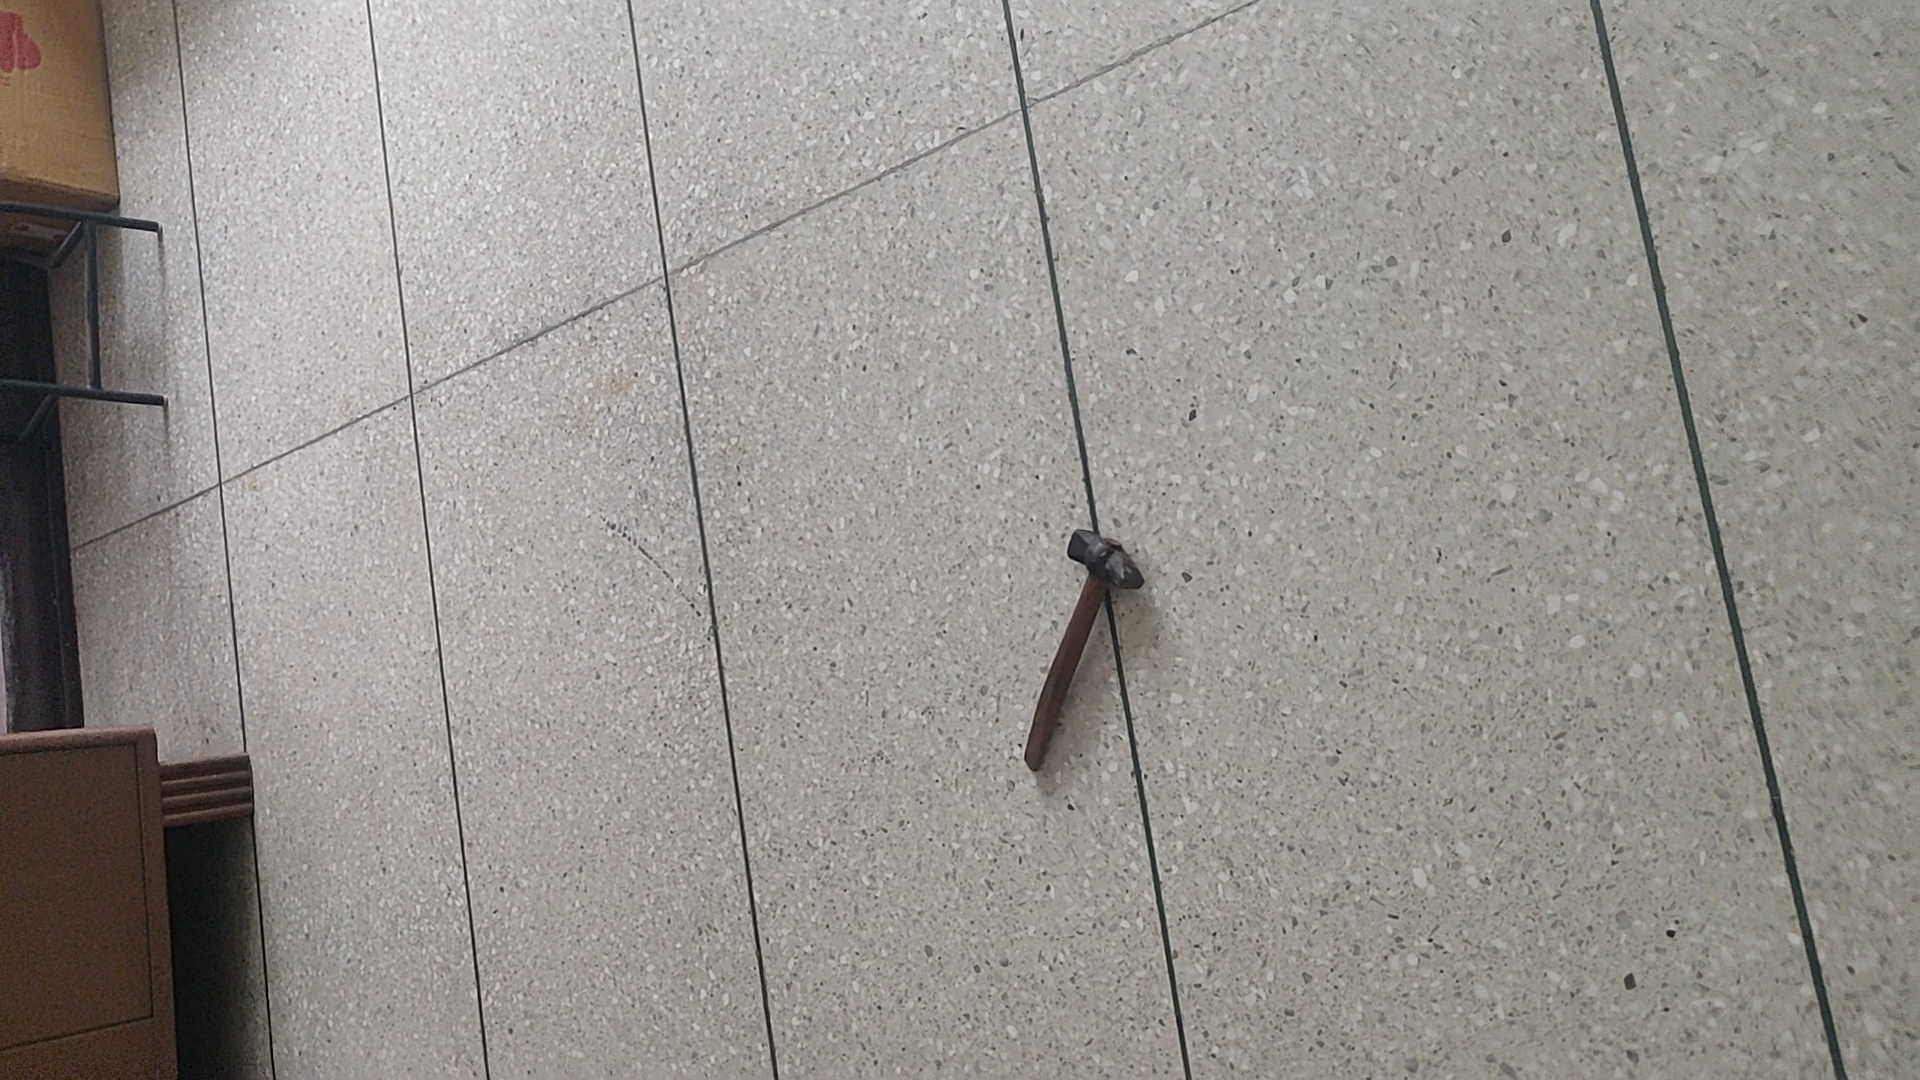hammer: (1015, 525, 1145, 775)
